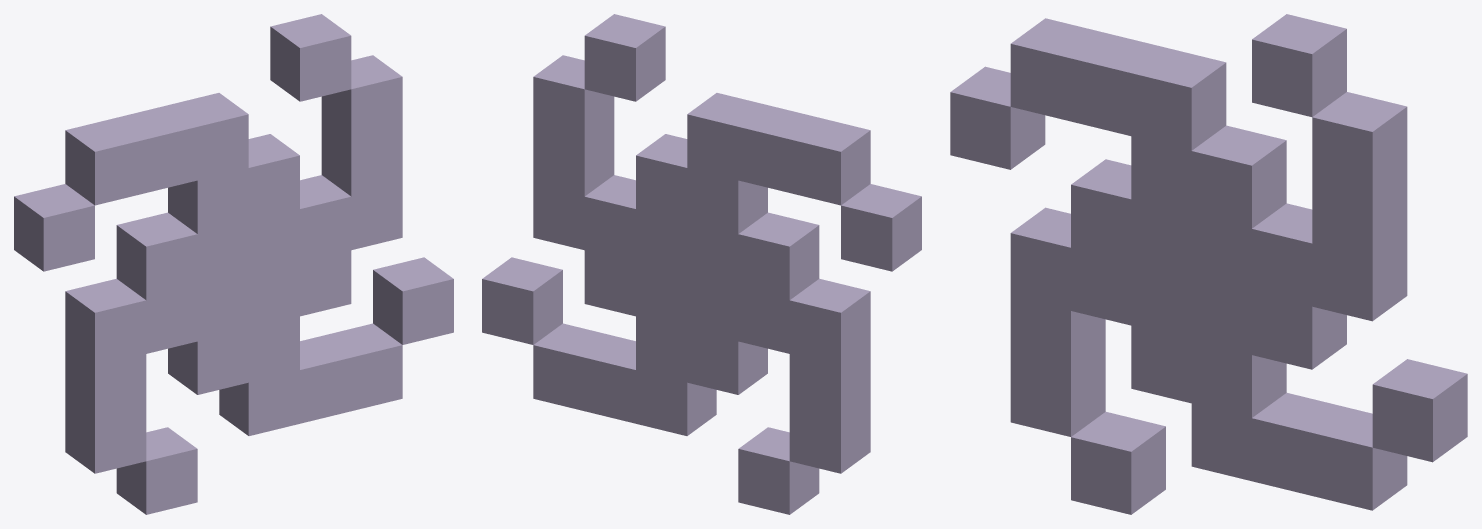
File: Fireball-Large-Grey.vox.obj
The picture shows the model from 3 angles, left to right: view 1: azimuth 30°, elevation 25°; view 2: azimuth 150°, elevation 25°; view 3: azimuth 330°, elevation 25°; orthographic projection. The views are drawn at different scales.
Bounding box in the file's own units: 0.8 × 0.8 × 0.1.
1 material, 1 textured.
